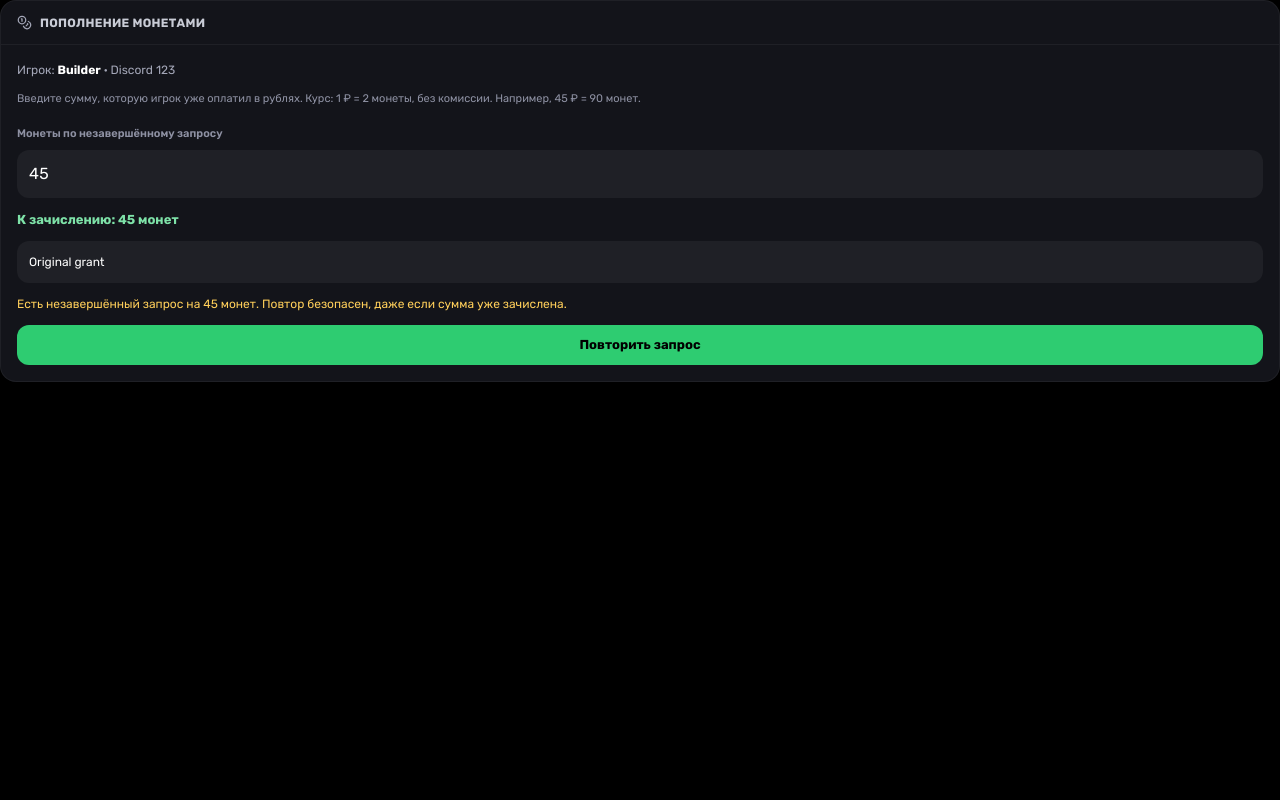
Test: pending credits saved before the ruble form retry without doubling
Click the button "Повторить запрос" at (640, 345), box [17,325,1263,365]
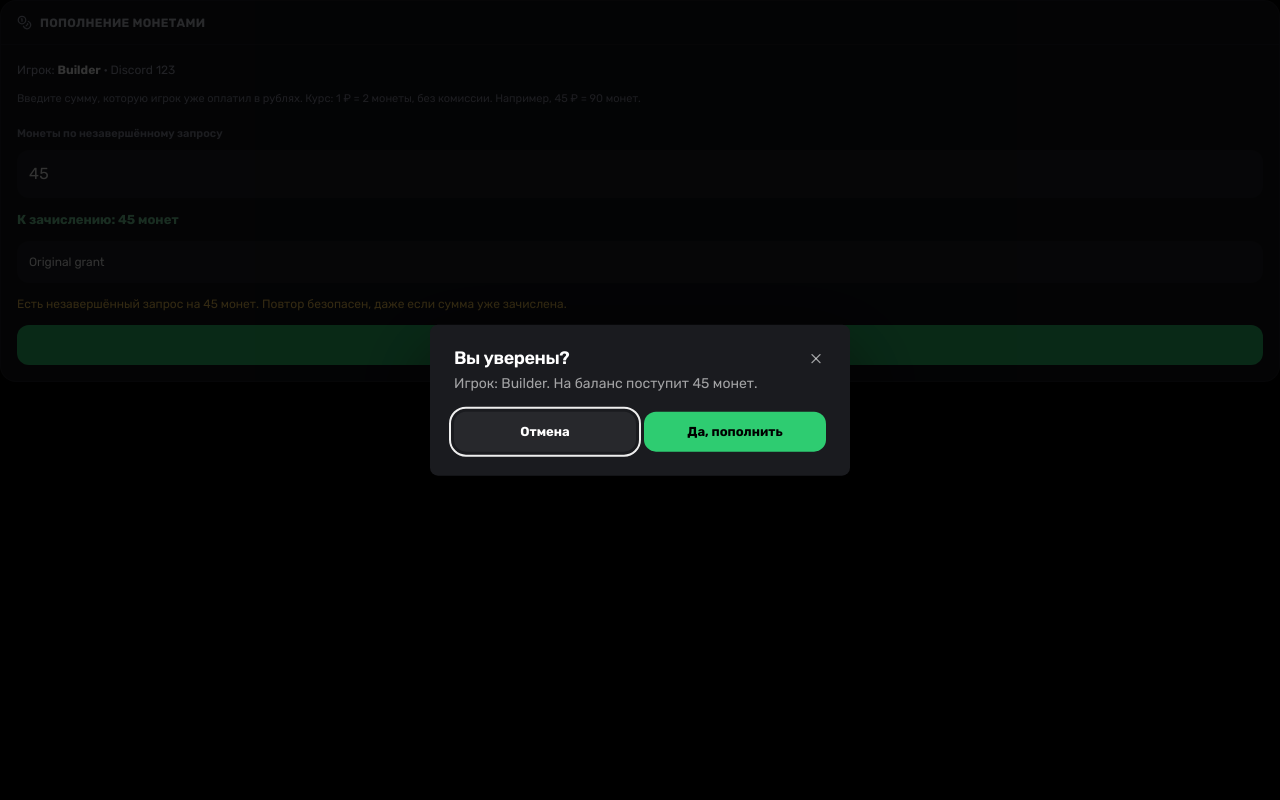
Click the button "Да, пополнить" at (735, 431), box [644,411,826,451]
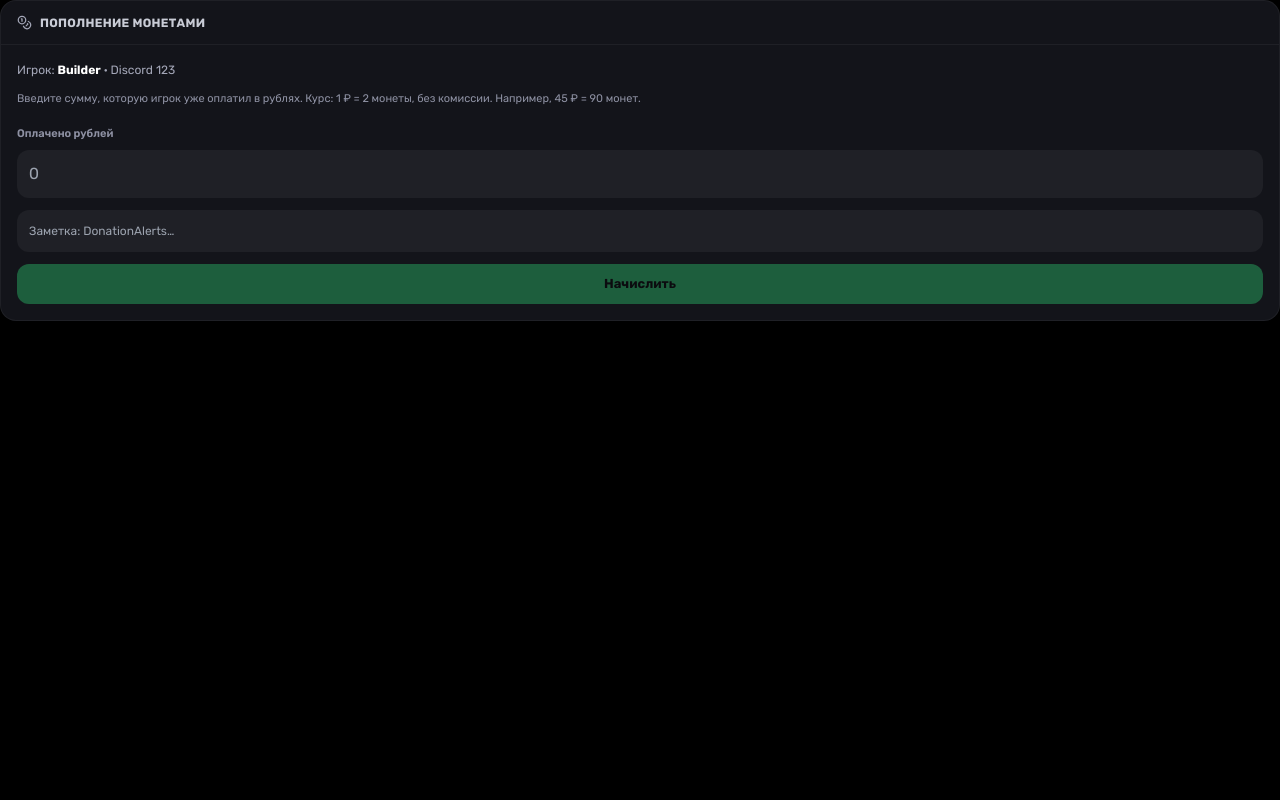
Expected: the field named "Оплачено рублей" is empty, [17,150,1263,198]
